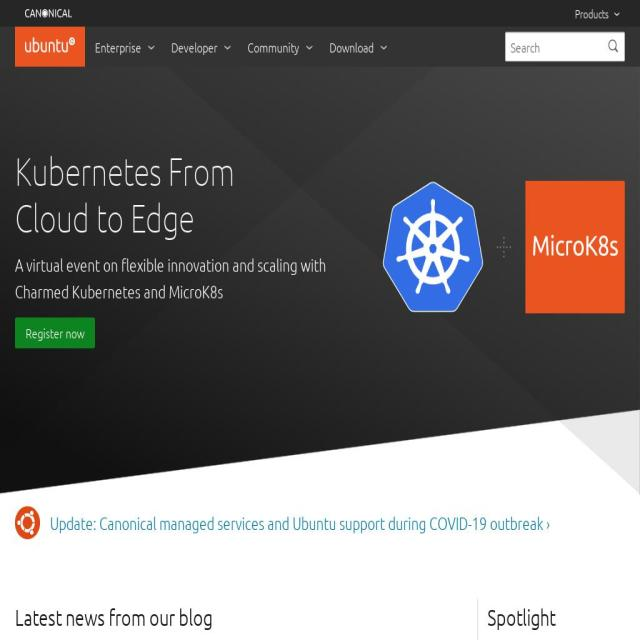button: (238, 27, 320, 66), (85, 27, 161, 66), (162, 27, 238, 66), (319, 27, 394, 66), (15, 317, 95, 348), (25, 27, 75, 66), (15, 0, 82, 27), (570, 0, 625, 27), (603, 33, 623, 60)
field: (505, 31, 625, 62)
heading: (15, 250, 363, 304), (15, 600, 467, 634), (50, 512, 550, 533), (15, 146, 234, 193), (15, 192, 194, 240), (487, 600, 625, 634)
image: (383, 181, 625, 314), (25, 36, 75, 56), (15, 506, 40, 540), (25, 9, 72, 18)
text: (608, 38, 618, 52)
